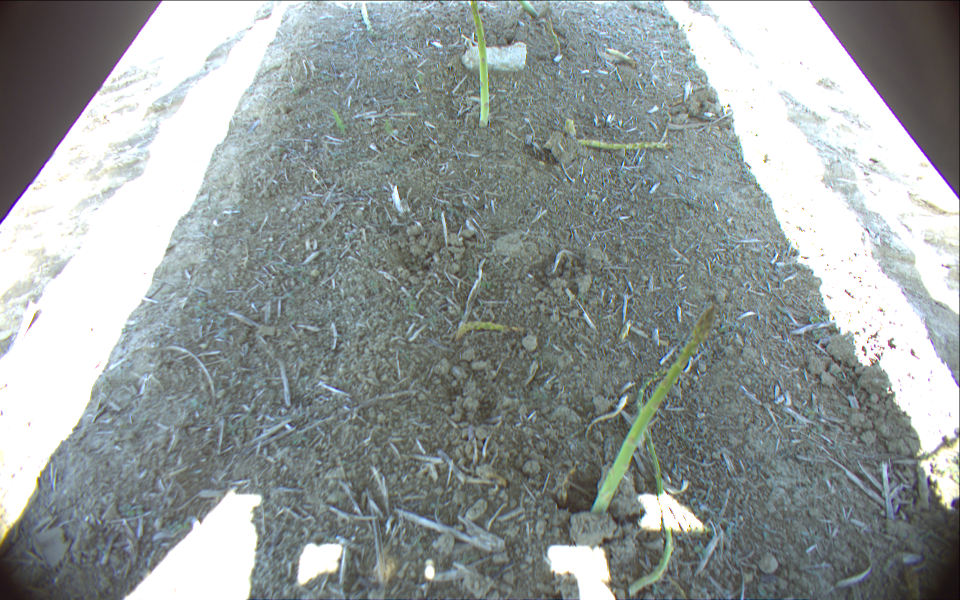aspa: (591, 304, 717, 514), (628, 372, 674, 597), (567, 120, 672, 151), (454, 321, 529, 342), (358, 1, 382, 35), (546, 13, 563, 53), (605, 47, 639, 67), (518, 1, 540, 19)
